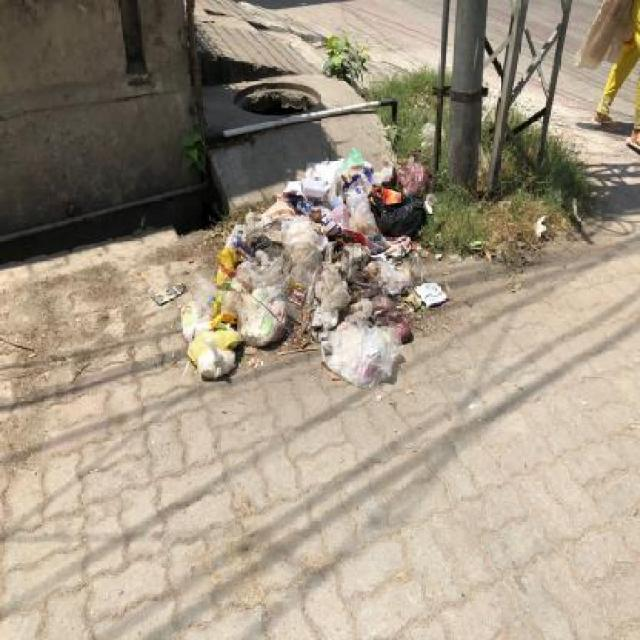garbage: (148, 163, 500, 400)
